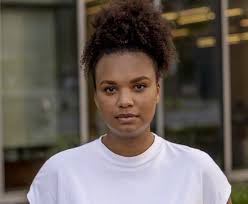no-mask: (89, 33, 163, 140)
